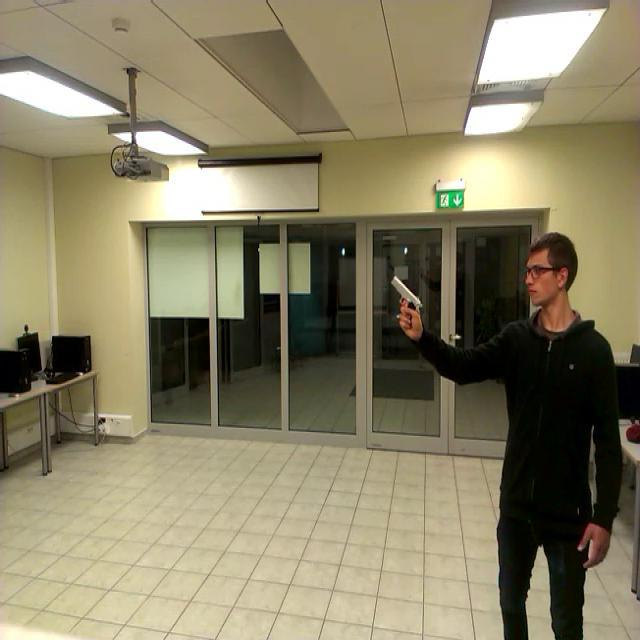Gun: (390, 275, 422, 328)
